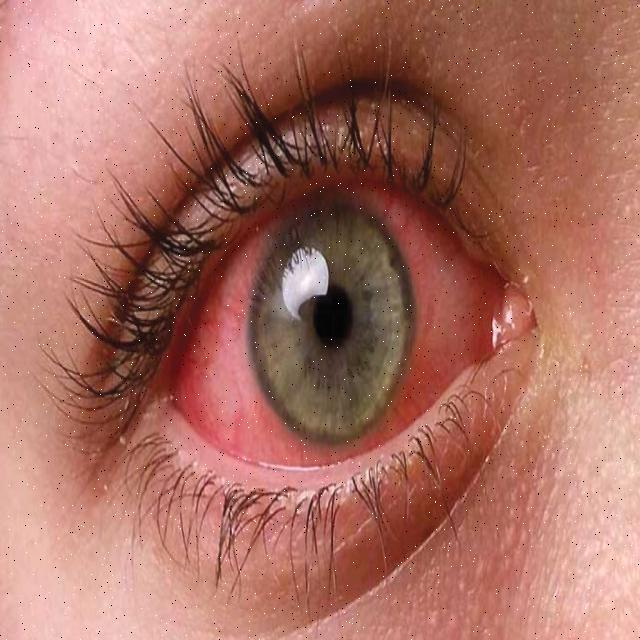Conjunctivitis: (156, 194, 543, 473)
